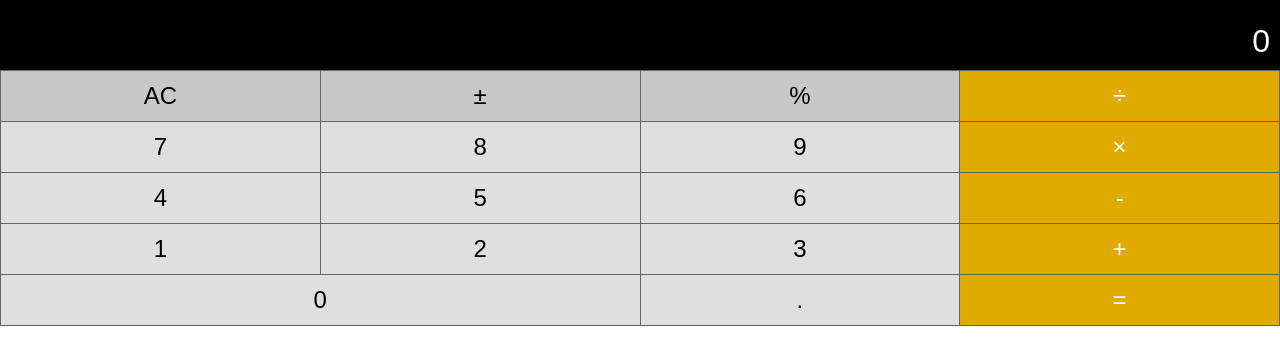
Test: TYPE_NUMBER › should display 22 when press 2, 2
Click the text with id "key-2": [481, 249] box [321,224,640,274]
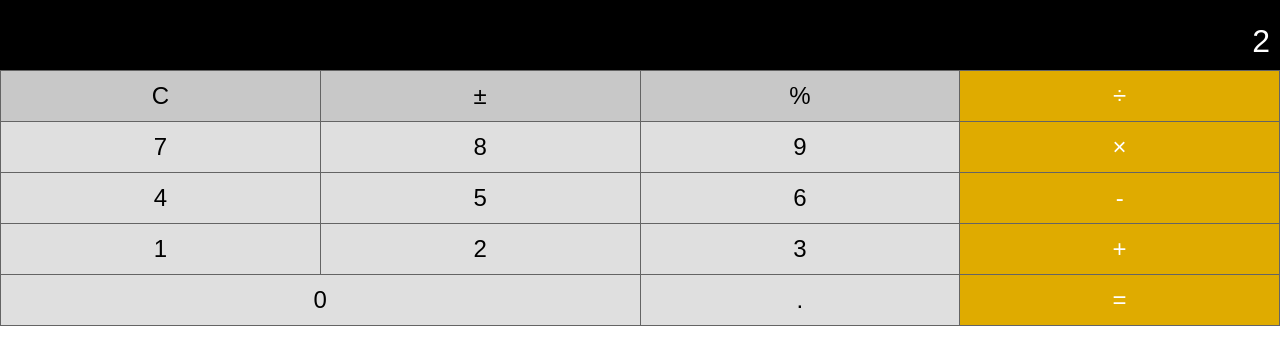
Click the text with id "key-2": [481, 249] box [321,224,640,274]
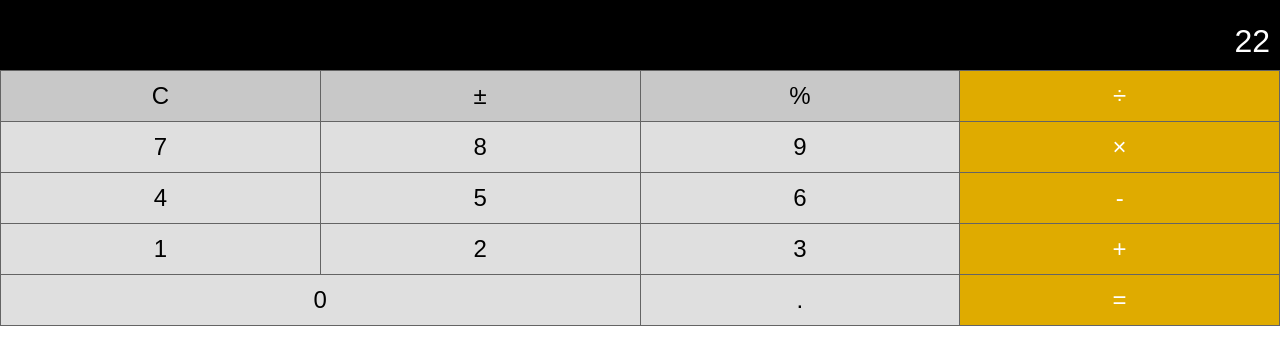
Expected: the text "22" is shown, [0,0,1279,70]
